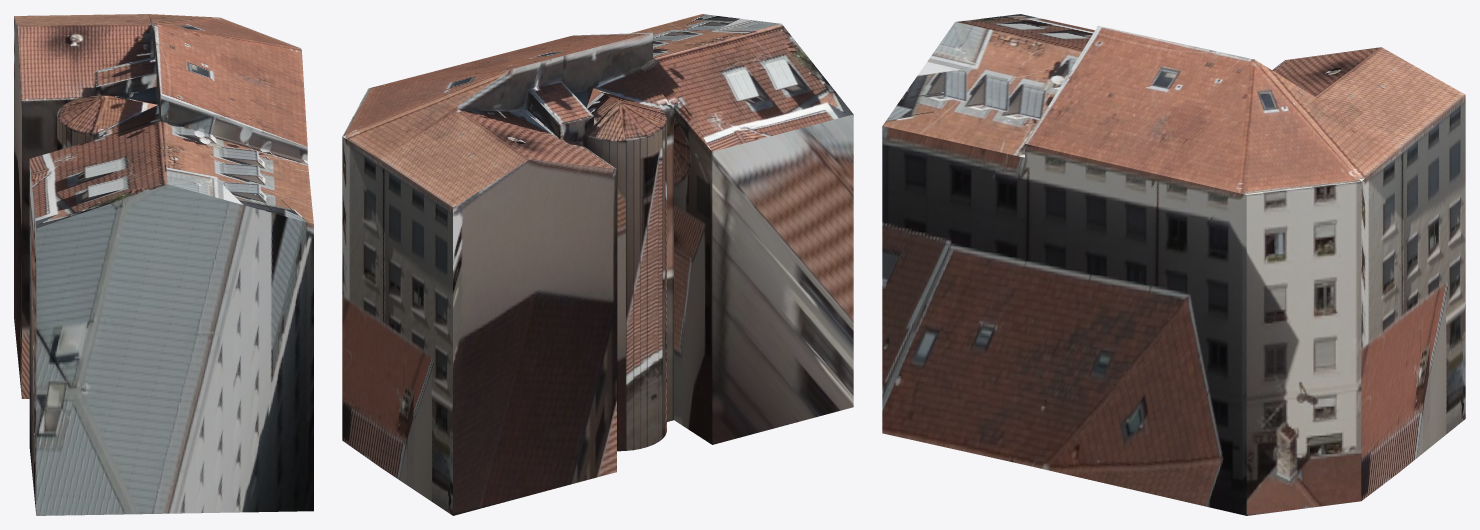
3 renders of one model, left to right at view 1: azimuth 30°, elevation 25°; view 2: azimuth 150°, elevation 25°; view 3: azimuth 270°, elevation 25°, orthographic. The views are drawn at different scales.
Parts seen in each view (by area): view 1: Z_UP; view 2: Z_UP; view 3: Z_UP.
Boxes of the visible parts, x1,y1,x2,y2 form: Z_UP: [14, 14, 313, 515]; Z_UP: [342, 14, 853, 515]; Z_UP: [882, 14, 1465, 515].
Bounding box in the file's own units: 25.13 × 23.03 × 31.93.
2 materials, 1 textured.
